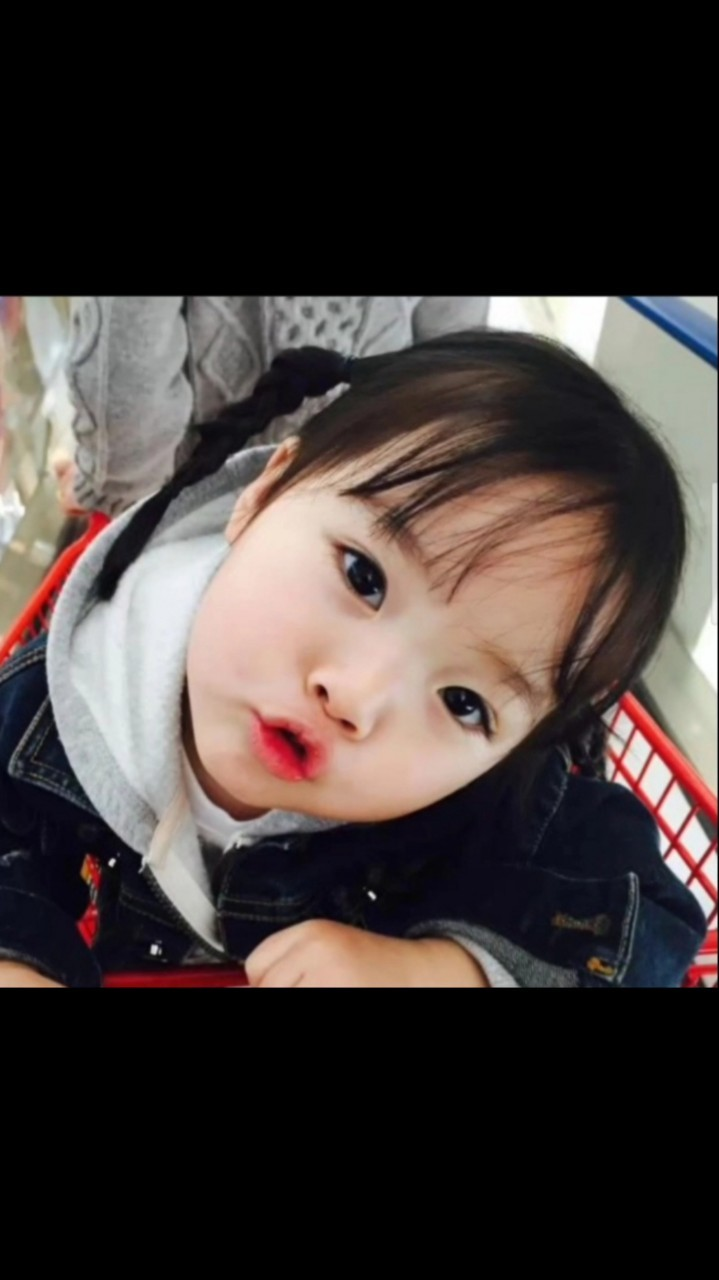people: (96, 359, 670, 986)
